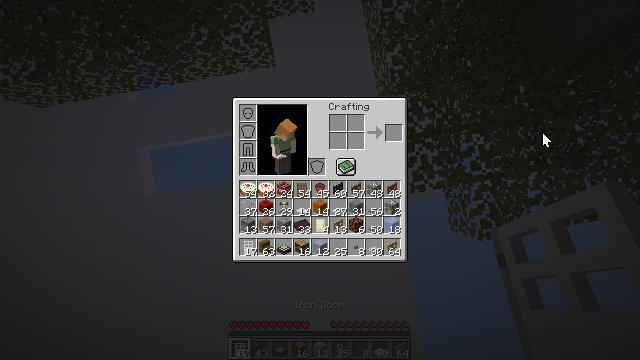cursor: (542, 132, 552, 148)
